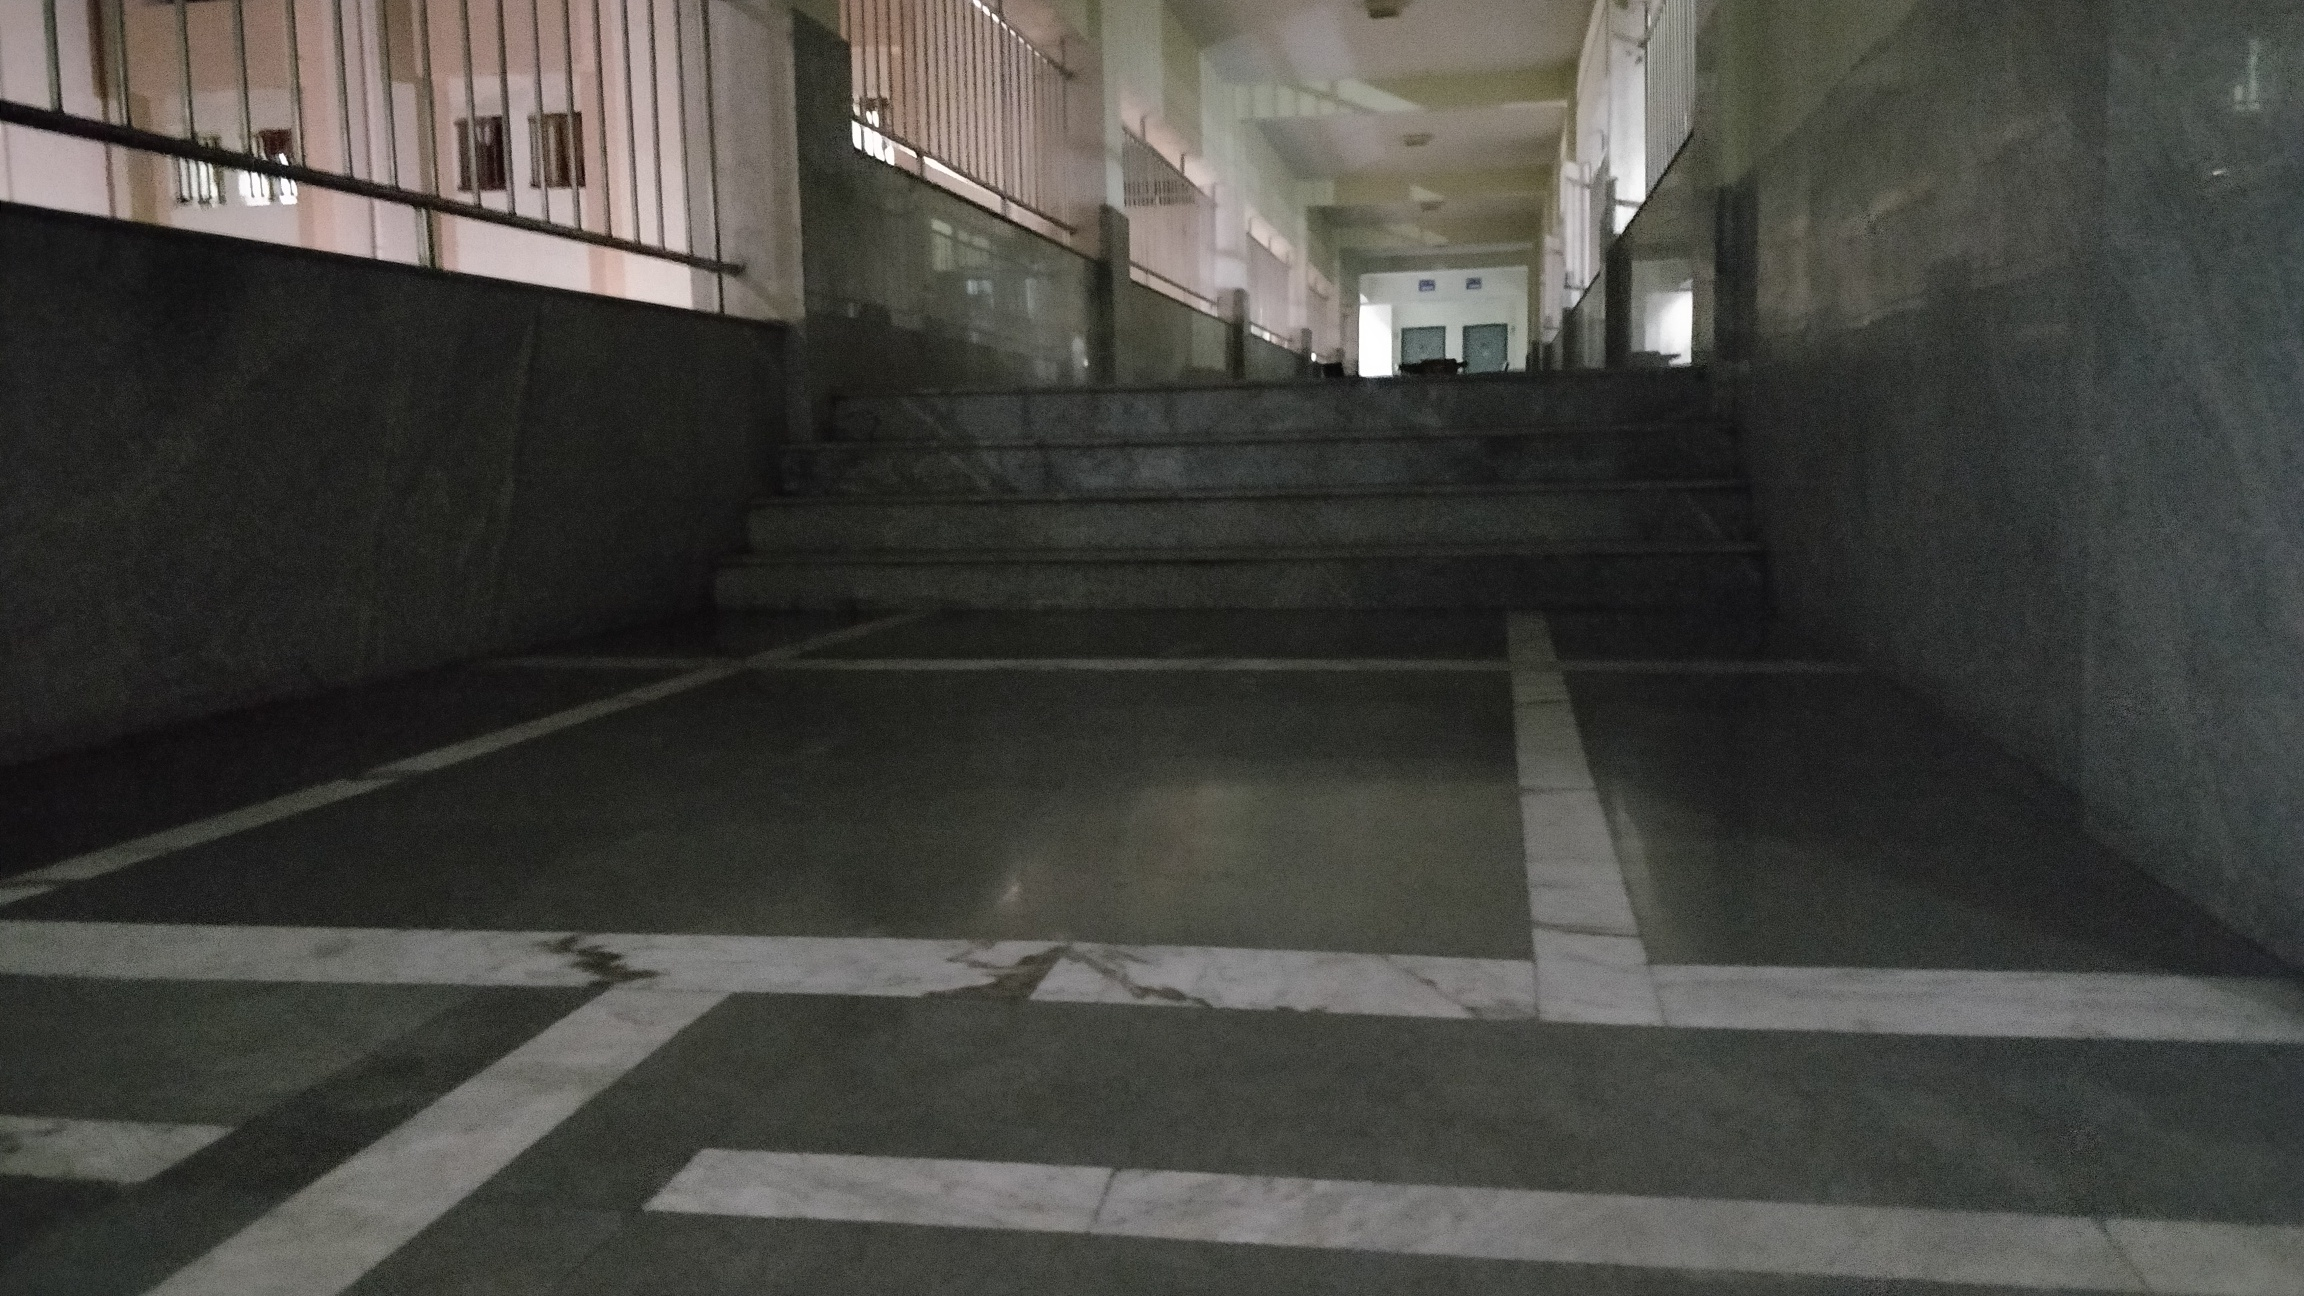stairs_up: (706, 369, 1766, 622)
